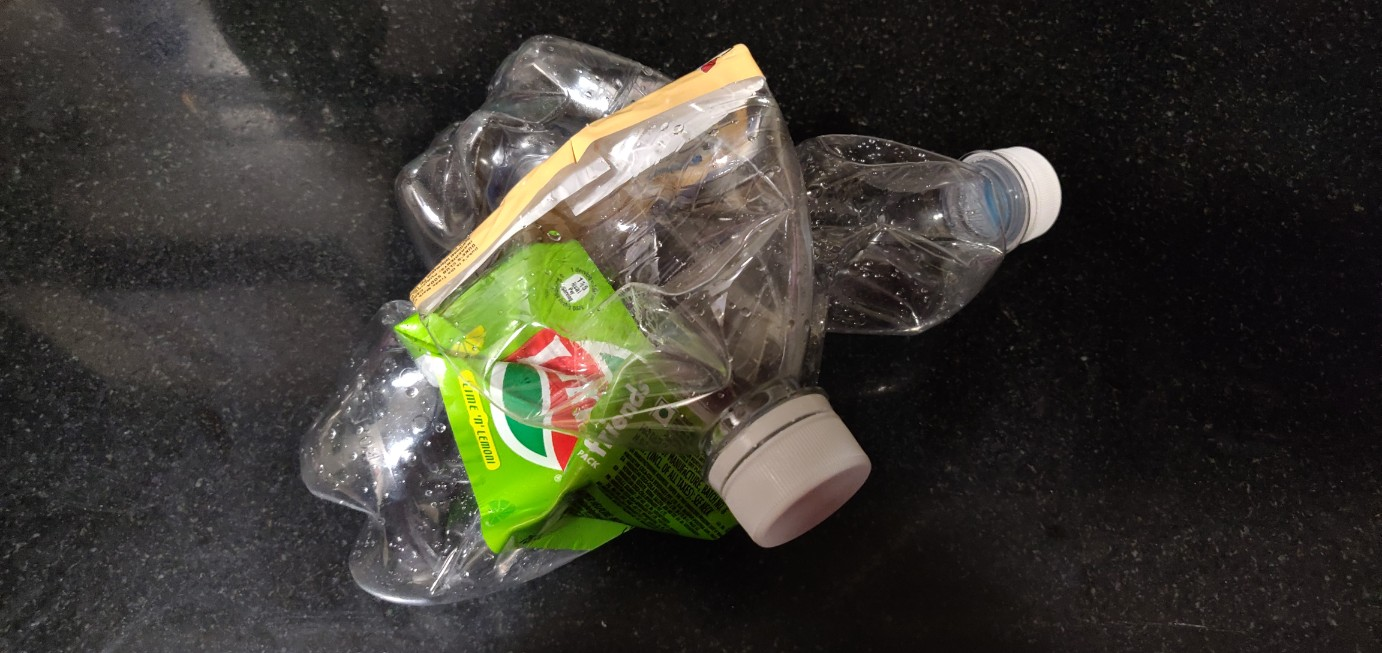Electronics: (274, 112, 1088, 620), (366, 12, 929, 572)
